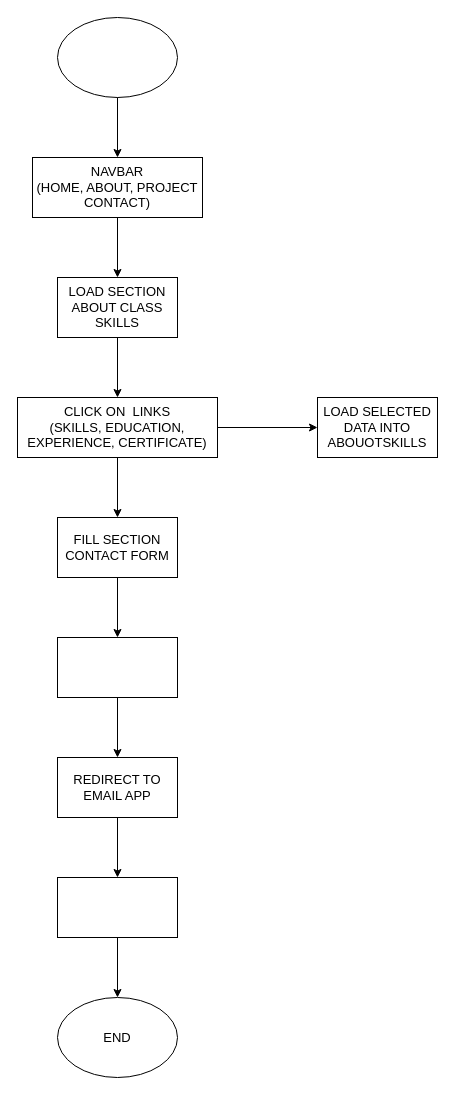
The diagram is 455 pixels wide and 1095 high, and some of its shapes have lost their labels. The shapes that lost their labels are listed below. From the top down, each one's box as (x1, y1, x2, y2) in pixels, then its label:
(56, 16, 178, 98): START
(56, 636, 178, 698): GENERATE MAILTO LINK
(56, 876, 178, 938): REFRESH AFTER 1 S
